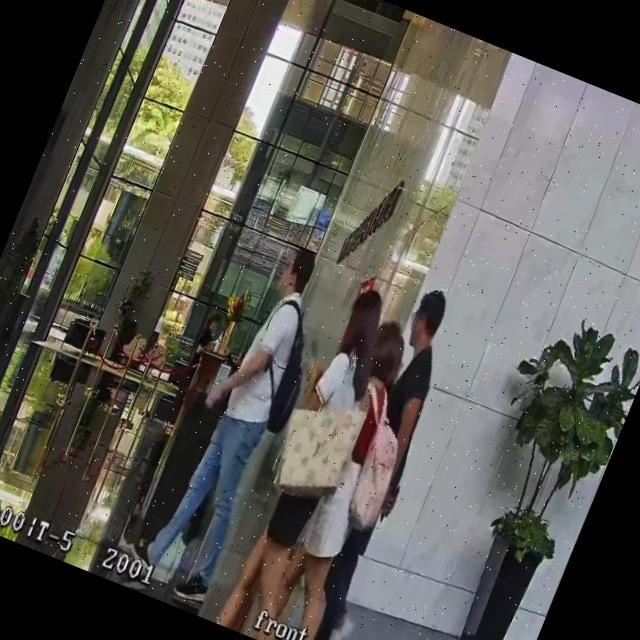person: (130, 234, 340, 610), (200, 273, 413, 640), (279, 284, 475, 640), (250, 314, 441, 640), (164, 310, 224, 431)
